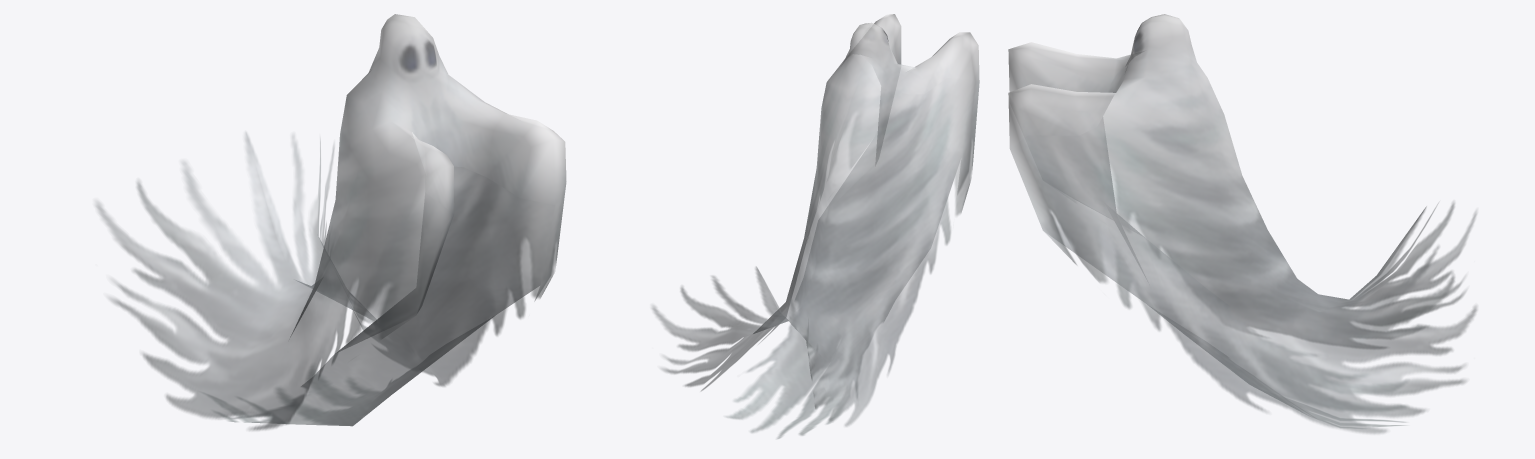
Rendered from DANDU_Youling_Anima02.glb.
3 views of the same model, side by side, from view 1: azimuth 30°, elevation 25°; view 2: azimuth 150°, elevation 25°; view 3: azimuth 270°, elevation 25° (orthographic). The views are drawn at different scales.
Visible parts, largest first — view 1: v_body; view 2: v_body; view 3: v_body.
Boxes of the visible parts, x1,y1,x2,y2 form: v_body: [95, 14, 566, 430]; v_body: [651, 14, 979, 438]; v_body: [1008, 14, 1477, 434].
Bounding box in the file's own units: 2.75 × 3.69 × 4.24.
1 material, 1 textured.
